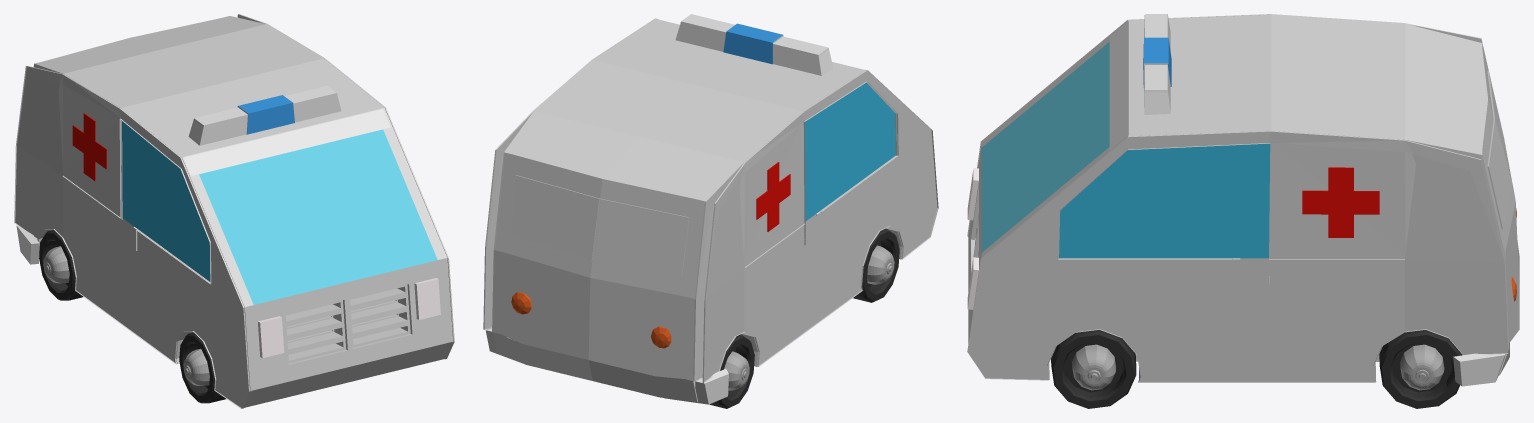
Rendered from Ambulance.Last.fbx.
3 views of the same model, side by side, from view 1: azimuth 30°, elevation 25°; view 2: azimuth 150°, elevation 25°; view 3: azimuth 270°, elevation 25° (orthographic). The views are drawn at different scales.
Visible parts, largest first — view 1: car_body, glass, car_fill.001, Plane, ambulancelight, wheel, front_light, car_fill, wheel_inside, ambulancelight.middle, cross, car_backpoint.001; view 2: car_body, car_fill.001, glass, car_hand, ambulancelight, wheel, ambulancelight.middle, wheel_inside, cross, car_backpoint.001, car_backcircle; view 3: car_fill.001, car_body, glass, wheel, wheel_inside, cross, Plane, ambulancelight, car_backpoint.001, car_fill, ambulancelight.middle, front_light.
Boxes of the visible parts, x1,y1,x2,y2 form: car_body: [33, 16, 451, 407]; glass: [122, 121, 437, 304]; car_fill.001: [14, 14, 454, 408]; Plane: [183, 109, 390, 175]; ambulancelight: [188, 86, 341, 145]; wheel: [39, 229, 225, 403]; front_light: [257, 278, 440, 358]; car_fill: [39, 58, 453, 408]; wheel_inside: [43, 246, 209, 385]; ambulancelight.middle: [237, 95, 294, 134]; cross: [72, 113, 106, 180]; car_backpoint.001: [16, 225, 39, 264]; car_body: [492, 19, 902, 381]; car_fill.001: [483, 18, 938, 383]; glass: [805, 82, 895, 220]; car_hand: [493, 211, 820, 402]; ambulancelight: [675, 14, 833, 75]; wheel: [709, 228, 899, 408]; ambulancelight.middle: [723, 23, 782, 64]; wheel_inside: [724, 245, 894, 390]; cross: [756, 162, 790, 231]; car_backpoint.001: [485, 327, 728, 404]; car_backcircle: [511, 292, 671, 348]; car_fill.001: [967, 14, 1508, 382]; car_body: [968, 14, 1519, 382]; glass: [981, 42, 1270, 258]; wheel: [1051, 330, 1462, 408]; wheel_inside: [1072, 344, 1444, 390]; cross: [1302, 167, 1379, 237]; Plane: [1109, 22, 1127, 150]; ambulancelight: [1143, 14, 1170, 114]; car_backpoint.001: [1453, 353, 1504, 386]; car_fill: [967, 15, 1270, 381]; ambulancelight.middle: [1143, 37, 1171, 86]; front_light: [967, 167, 978, 309].
Bounding box in the file's own units: 222 × 242 × 406.
